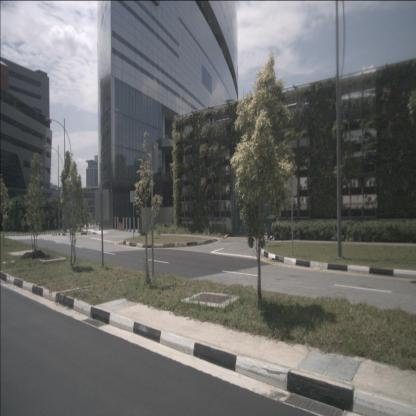cone: (118, 222, 121, 230), (121, 222, 123, 231), (120, 222, 122, 230)
